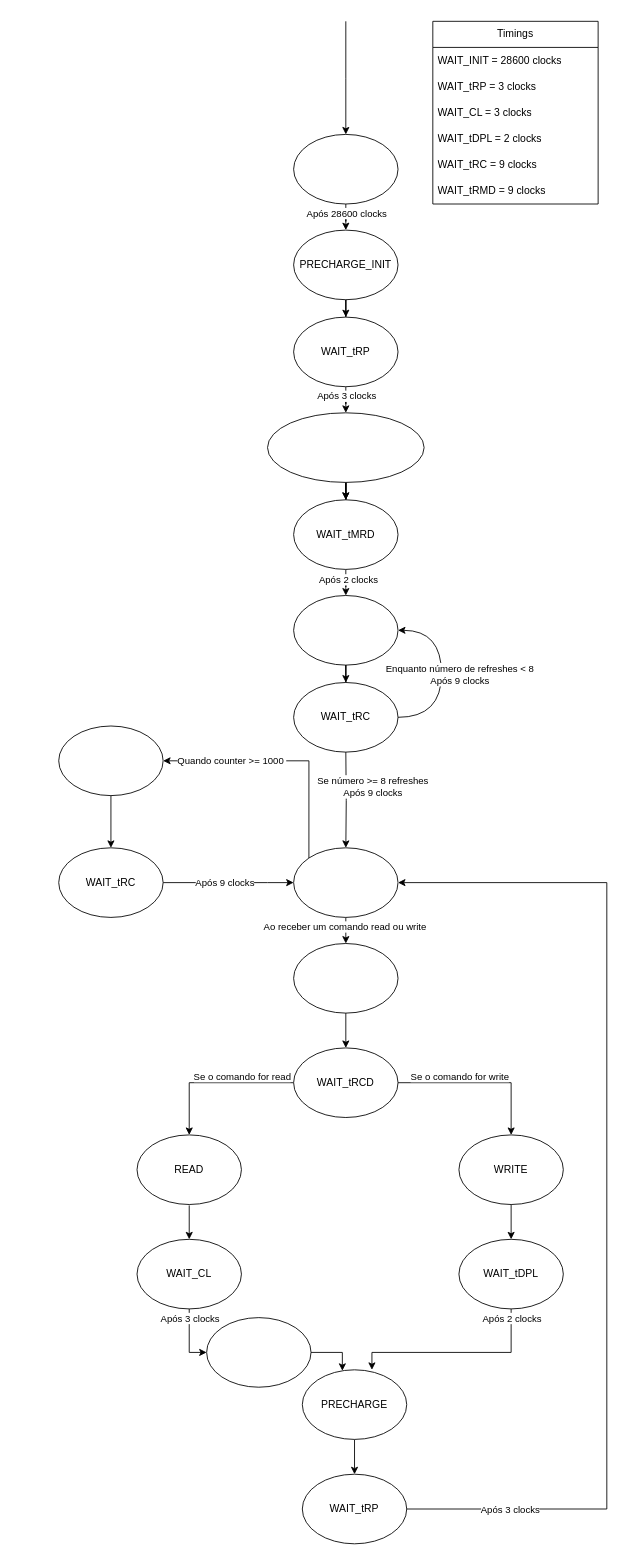
The diagram is 629 pixels wide and 1559 high, and some of its shapes have lost their labels. Each missing label, with the centre of its shape:
ACTIVATE: point (345, 978)
CAPTURA_DADOS: point (258, 1352)
LOAD_MODE_REGISTER: point (345, 447)
READY: point (345, 882)
REFRESH: point (110, 760)
REFRESH_INIT: point (345, 630)
WAIT_INIT: point (345, 169)
